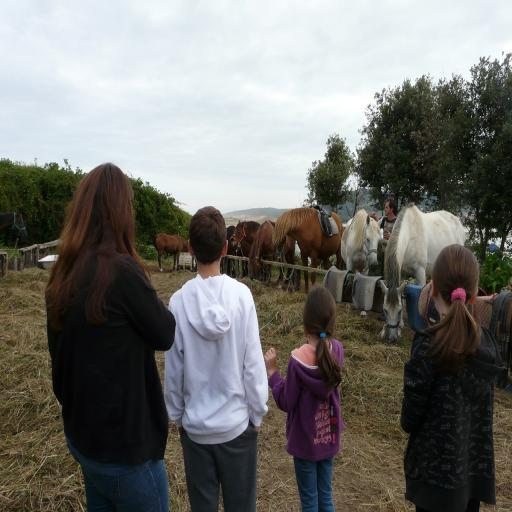horse: (224, 200, 465, 346), (152, 230, 190, 274)
